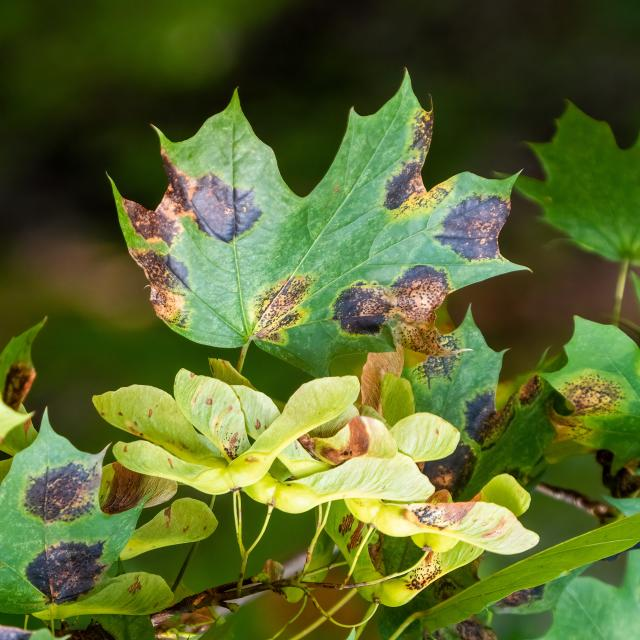Tar_Spot: (191, 76, 562, 558), (0, 405, 156, 616)
